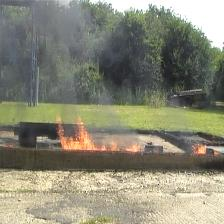fire: (57, 132, 93, 153)
